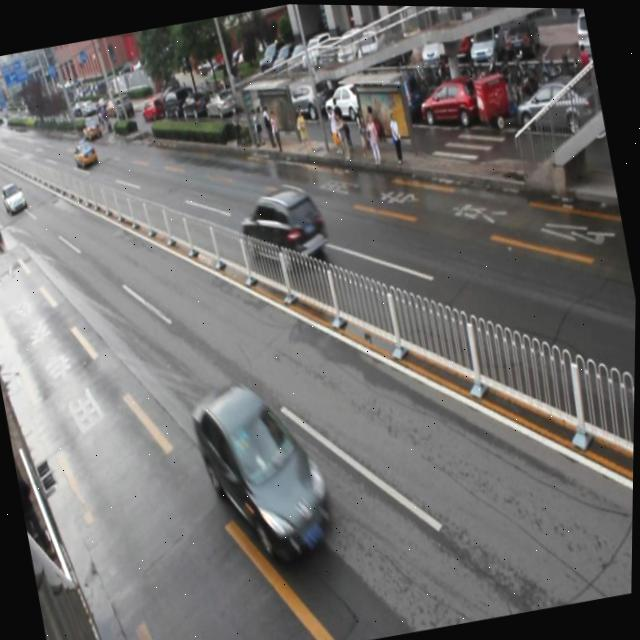car: (186, 368, 343, 574), (236, 181, 333, 277)
